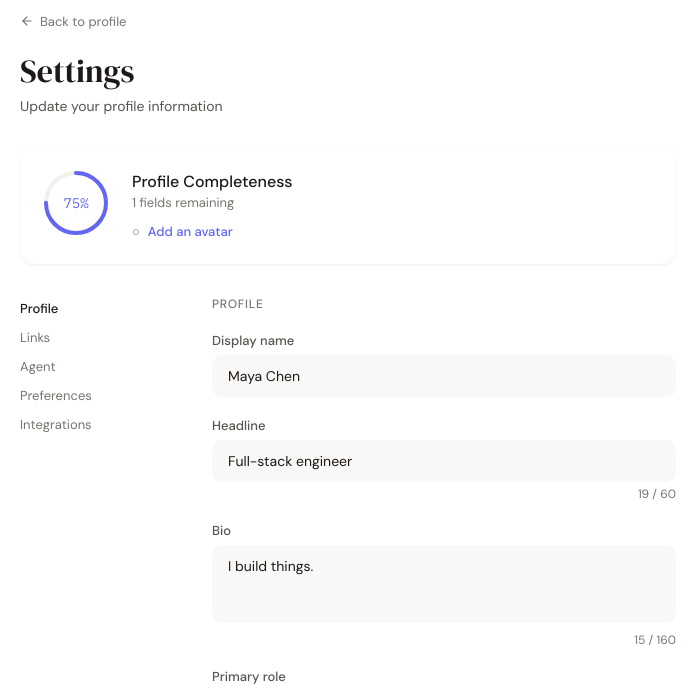
Test: SettingsPage › switches to Preferences section
Click the button "Preferences" at (100, 395), box [20,383,180,408]
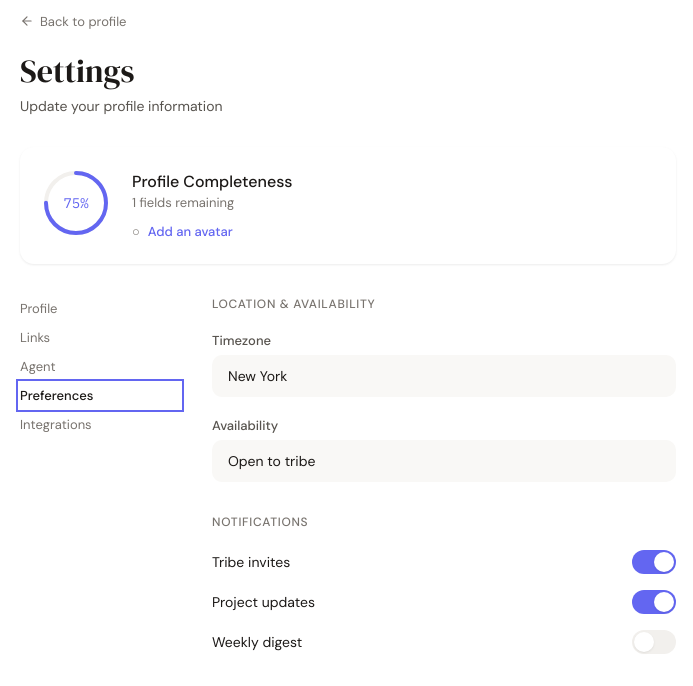
Result: the heading "Location & Availability" is shown at [212,296,376,312]
Result: the dropdown labelled "Timezone" is shown at [212,355,676,397]
